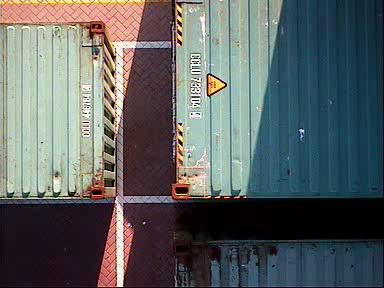groundmarker_2: (166, 1, 221, 70)
